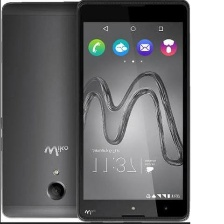phone: (74, 0, 192, 224), (0, 0, 120, 220)
